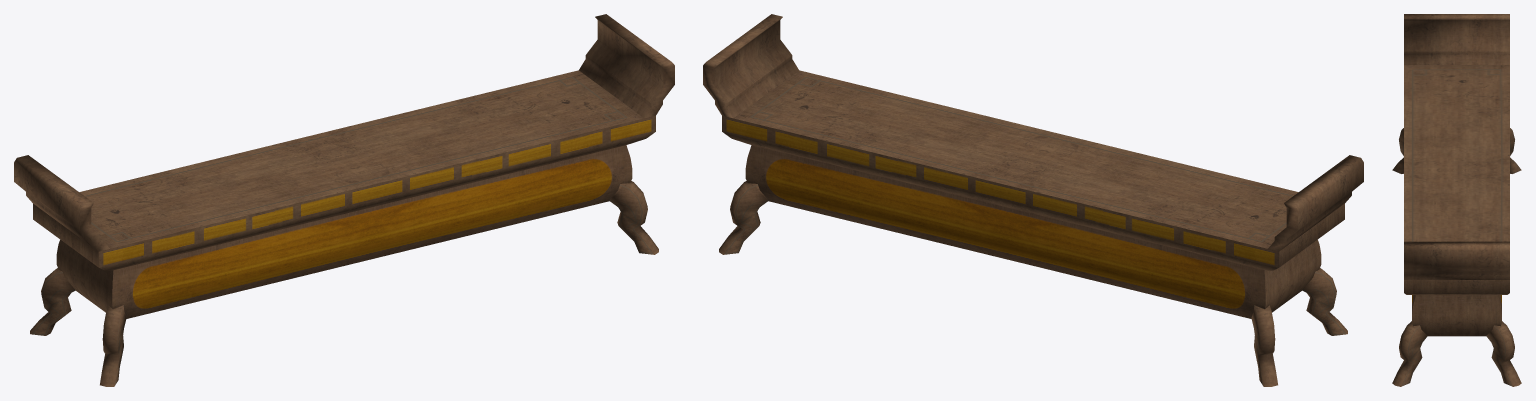
File: Table_15.FBX
3 renders of one model, left to right at view 1: azimuth 30°, elevation 25°; view 2: azimuth 150°, elevation 25°; view 3: azimuth 270°, elevation 25°, orthographic. The views are drawn at different scales.
Parts seen in each view (by area): view 1: Table_15; view 2: Table_15; view 3: Table_15.
Part boxes in pixels (left/top/right/bottom): Table_15: left=14, top=14, right=674, bottom=386; Table_15: left=703, top=14, right=1363, bottom=386; Table_15: left=1392, top=14, right=1521, bottom=386.
Size of the model in its own units: 143 by 41.8 by 33.47.
